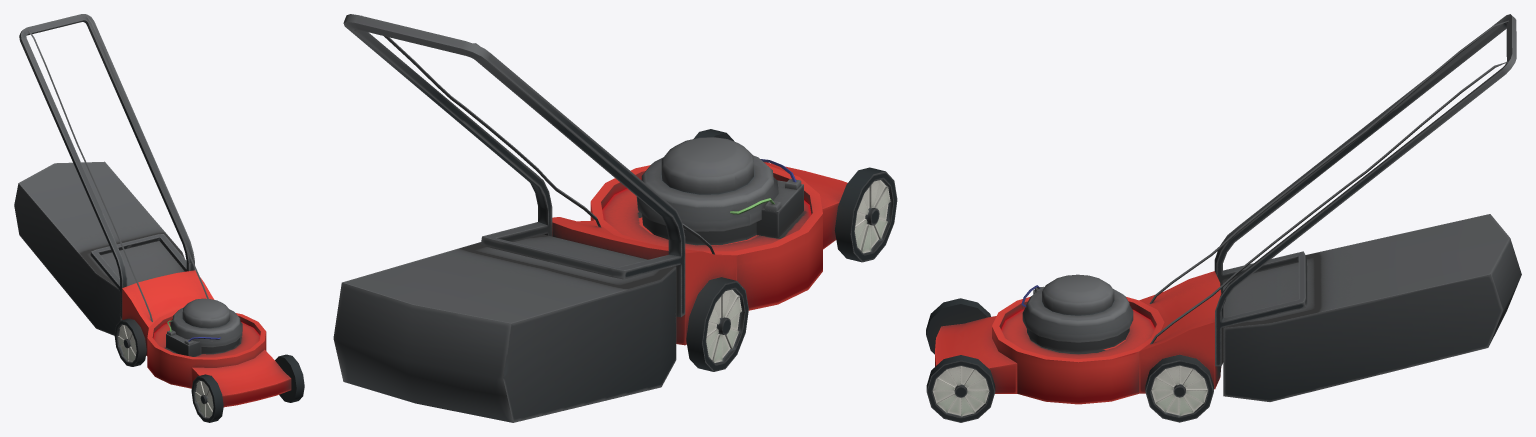
The model's file is lawnMower_2.gltf.
3 renders of one model, left to right at view 1: azimuth 30°, elevation 25°; view 2: azimuth 150°, elevation 25°; view 3: azimuth 270°, elevation 25°, orthographic. The views are drawn at different scales.
Visible parts, largest first — view 1: Bag, HandleBar, MainBody, Engine, BackBody, FrontBody, WheelBR, WheelFR, WheelFL; view 2: Bag, HandleBar, Engine, MainBody, WheelBR, WheelFR, BackBody, FrontBody; view 3: Bag, HandleBar, MainBody, Engine, BackBody, WheelFL, WheelBL, FrontBody, WheelFR.
Boxes of the visible parts, left/top/right/bottom form: Bag: left=14, top=161, right=184, bottom=335; HandleBar: left=19, top=14, right=208, bottom=321; MainBody: left=147, top=309, right=266, bottom=388; Engine: left=166, top=298, right=242, bottom=356; BackBody: left=122, top=270, right=214, bottom=355; FrontBody: left=191, top=349, right=291, bottom=407; WheelBR: left=114, top=318, right=146, bottom=366; WheelFR: left=191, top=374, right=223, bottom=422; WheelFL: left=275, top=354, right=304, bottom=402; Bag: left=333, top=234, right=676, bottom=422; HandleBar: left=343, top=14, right=714, bottom=317; Engine: left=636, top=137, right=803, bottom=245; MainBody: left=590, top=165, right=822, bottom=310; WheelBR: left=686, top=277, right=748, bottom=371; WheelFR: left=834, top=167, right=897, bottom=262; BackBody: left=552, top=217, right=736, bottom=345; FrontBody: left=764, top=162, right=847, bottom=249; Bag: left=1223, top=214, right=1521, bottom=401; HandleBar: left=1149, top=14, right=1516, bottom=366; MainBody: left=992, top=297, right=1164, bottom=404; Engine: left=1021, top=274, right=1133, bottom=352; BackBody: left=1139, top=271, right=1221, bottom=393; WheelFL: left=926, top=355, right=995, bottom=422; WheelBL: left=1145, top=354, right=1213, bottom=422; FrontBody: left=935, top=316, right=1017, bottom=393; WheelFR: left=926, top=298, right=990, bottom=354.
Size of the model in its own units: 1.61 by 3.7 by 5.61.
1 material, 1 textured.
